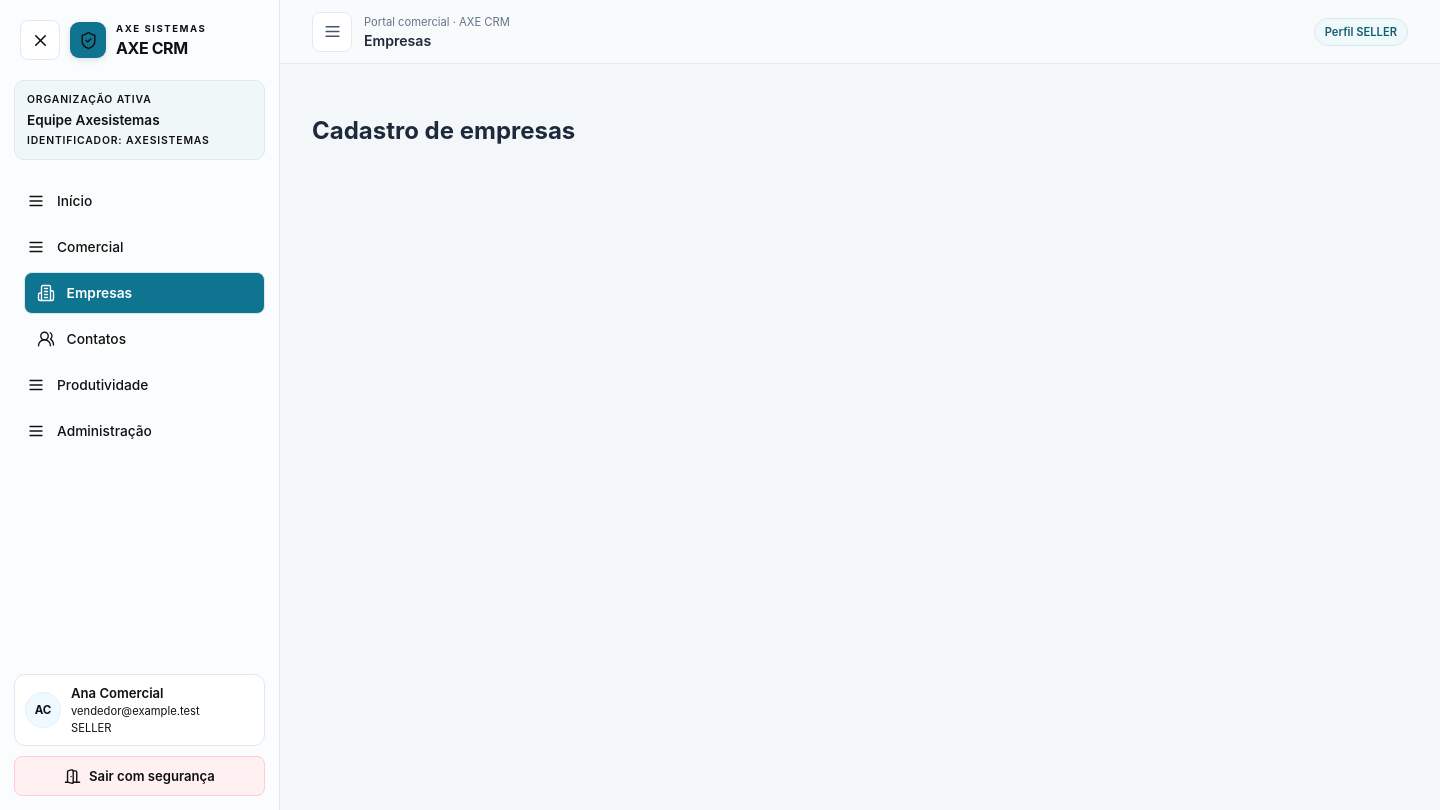
Test case: Dispatch navigation in CRM › dismisses the mobile drawer when the viewport becomes desktop
Click the button named "Abrir navegação" at (332, 32), box 312,12 -> 352,52
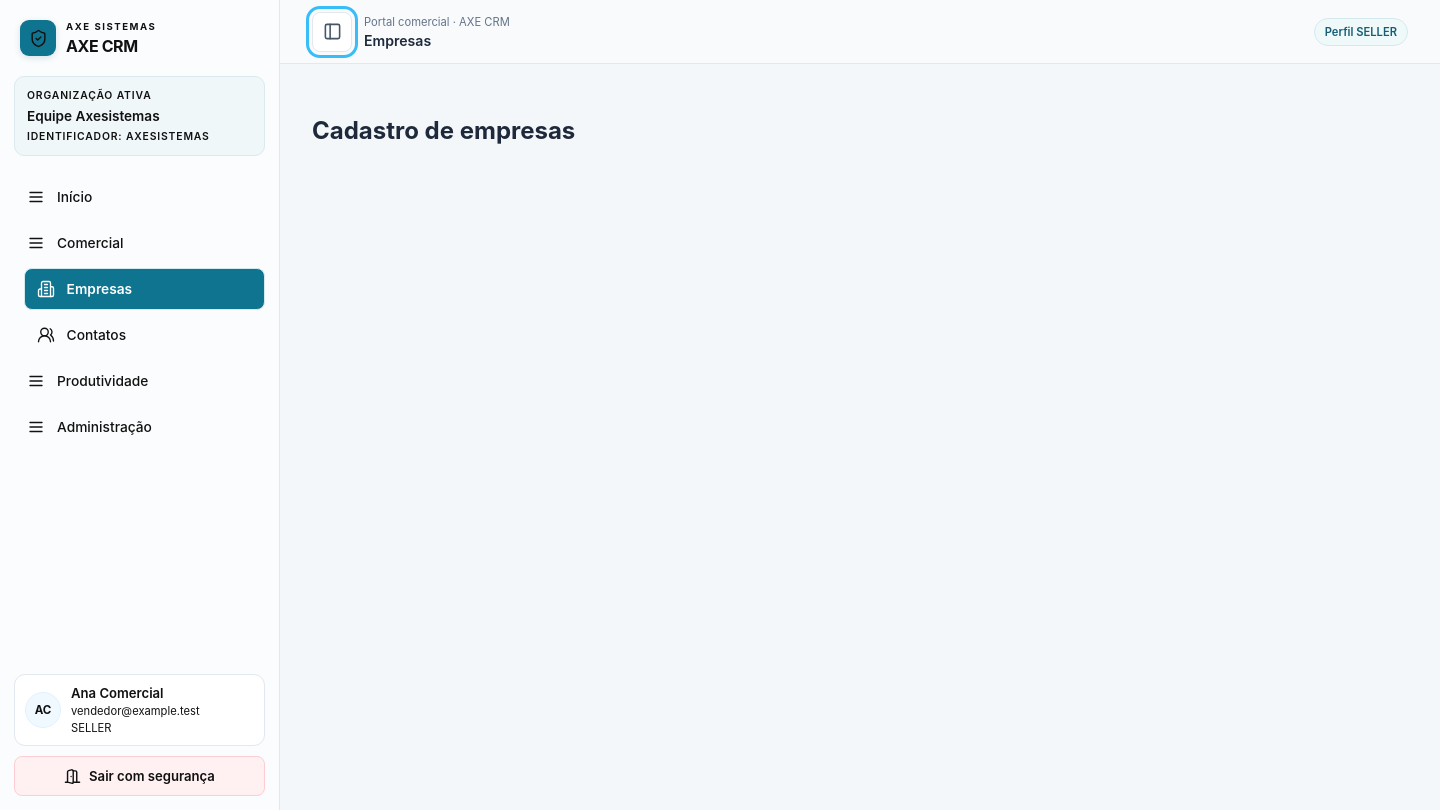
Now the button named "Recolher navegação" is shown, box 312,12 -> 352,52
